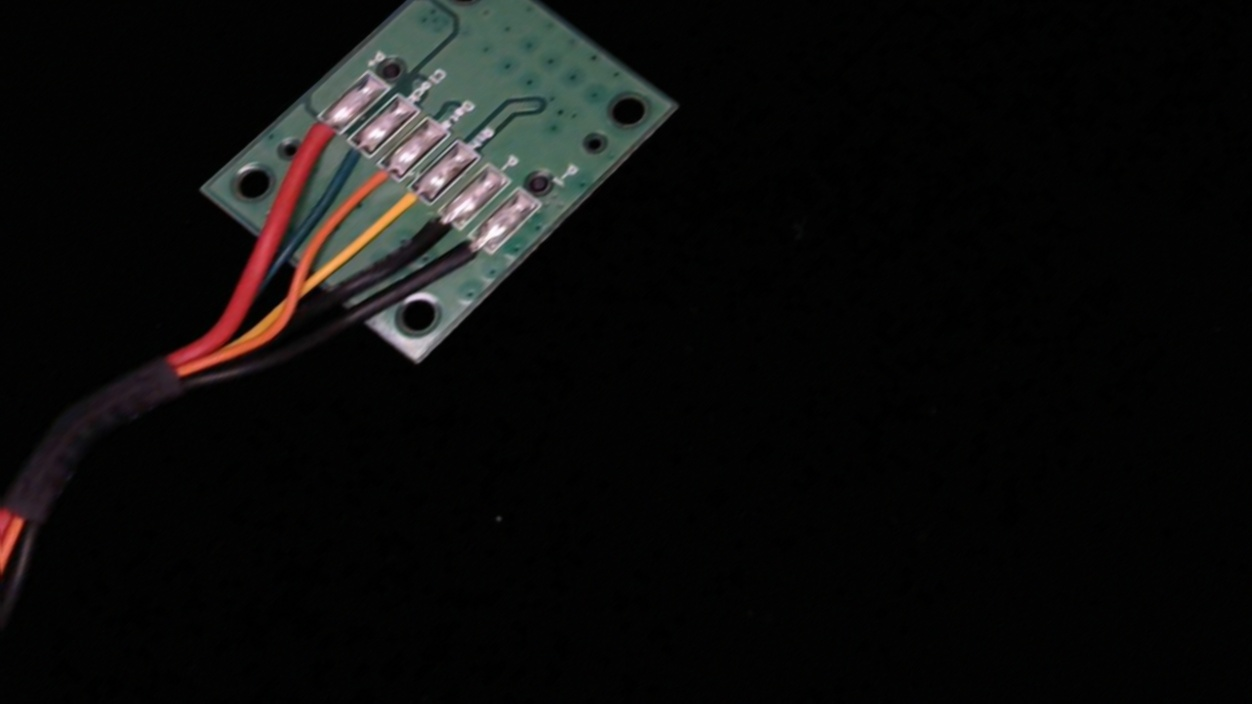Black: (393, 197, 476, 267)
Black1: (424, 224, 510, 297)
Green: (309, 123, 390, 189)
Orange: (338, 148, 417, 214)
Red: (271, 99, 361, 172)
Yellow: (363, 174, 445, 244)
